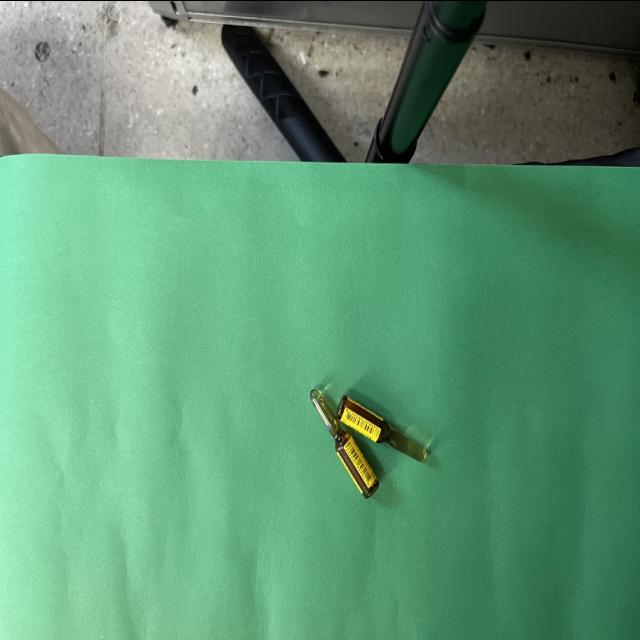Ampoules: (310, 388, 380, 499), (336, 395, 428, 462)
